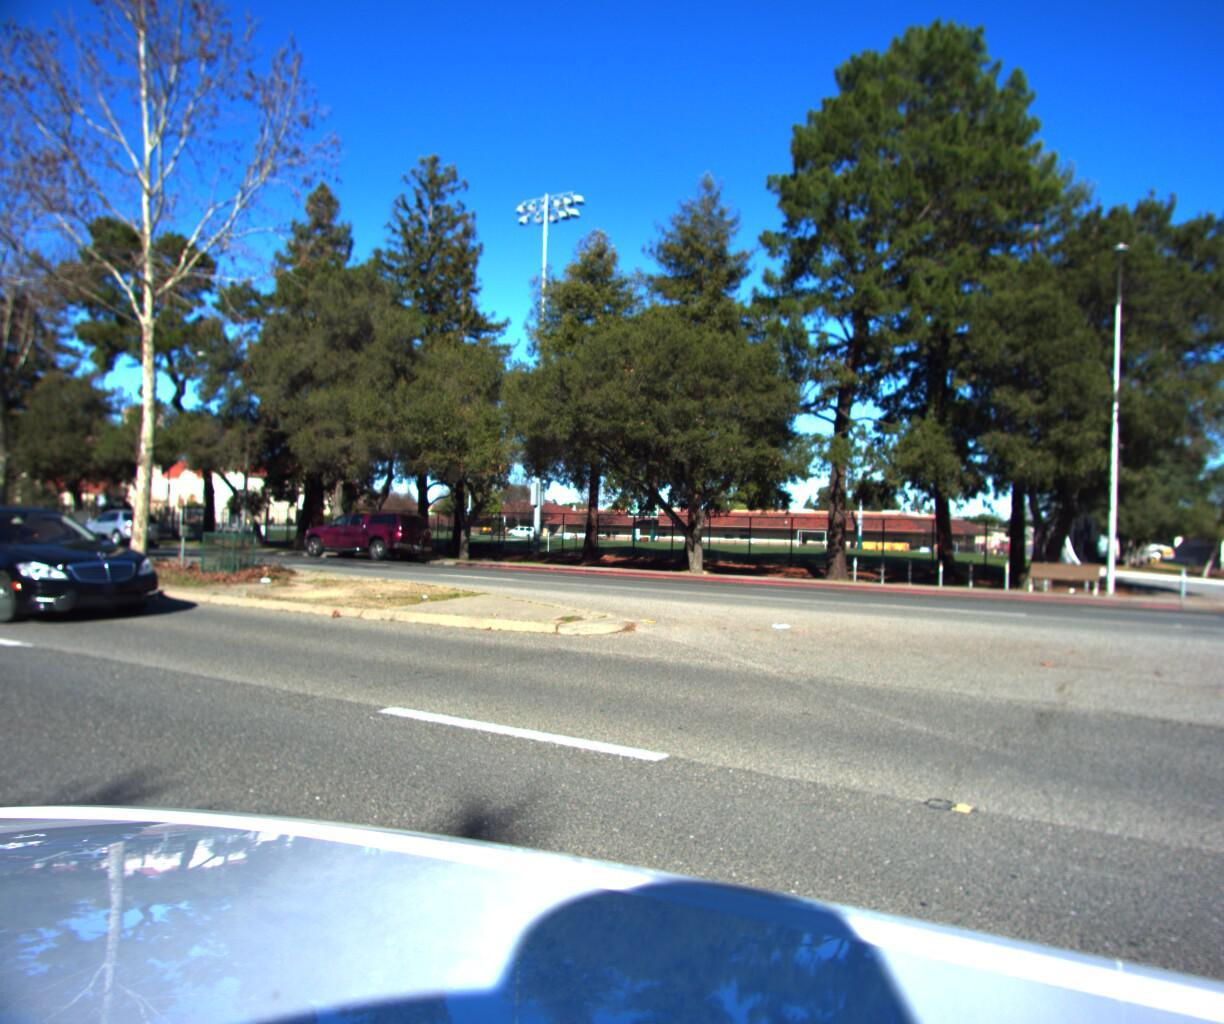car: (0, 499, 189, 636), (295, 513, 436, 567), (72, 511, 168, 555)
